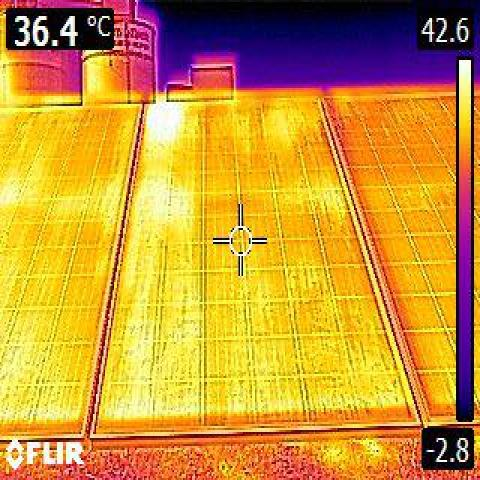fault: (148, 104, 180, 147)
